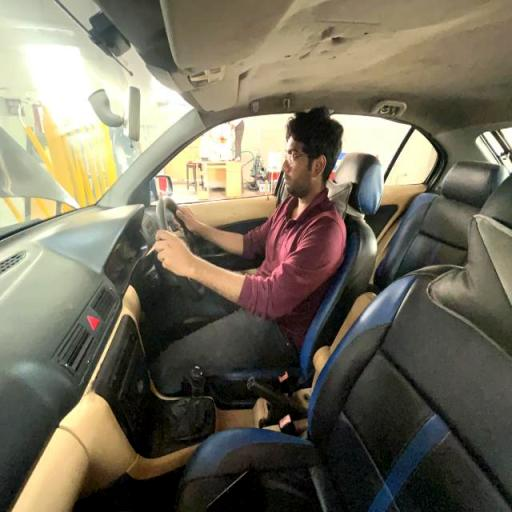Normal: (133, 107, 344, 380)
